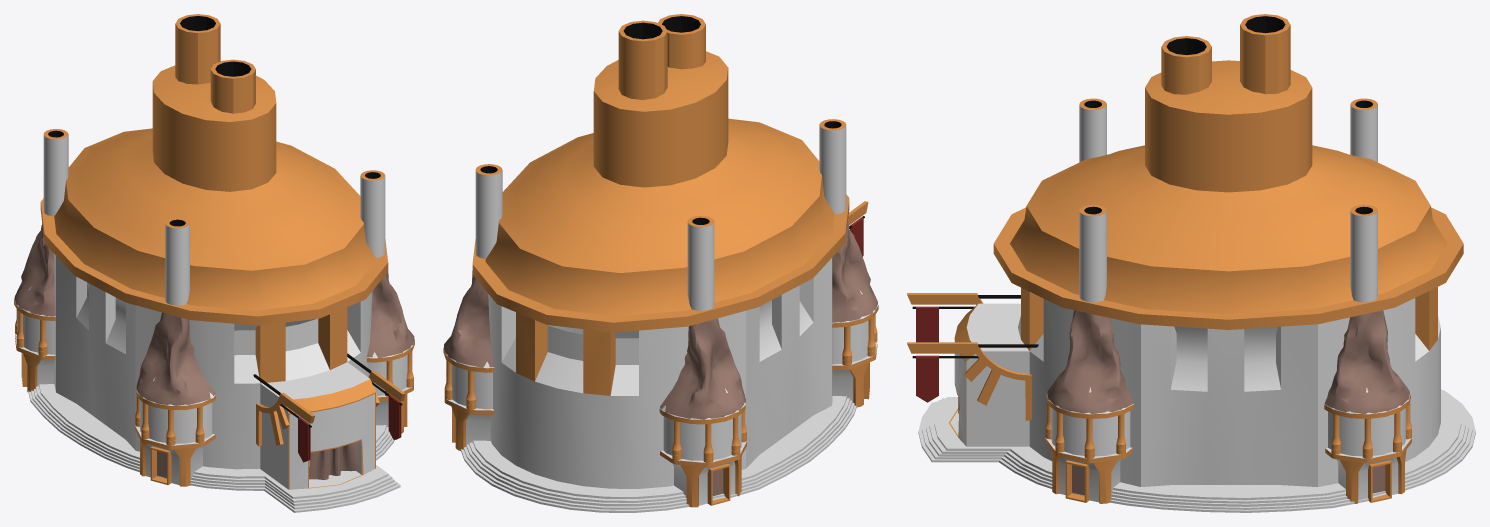
File: Building_Blacksmith.fbx
3 renders of one model, left to right at view 1: azimuth 30°, elevation 25°; view 2: azimuth 150°, elevation 25°; view 3: azimuth 270°, elevation 25°, orthographic. The views are drawn at different scales.
Visible parts, largest first — view 1: Building_Blacksmith; view 2: Building_Blacksmith; view 3: Building_Blacksmith.
Boxes of the visible parts, x1,y1,x2,y2 form: Building_Blacksmith: [14, 14, 414, 512]; Building_Blacksmith: [443, 14, 878, 512]; Building_Blacksmith: [907, 14, 1475, 512].
Bounding box in the file's own units: 1932 × 2316 × 2920.
